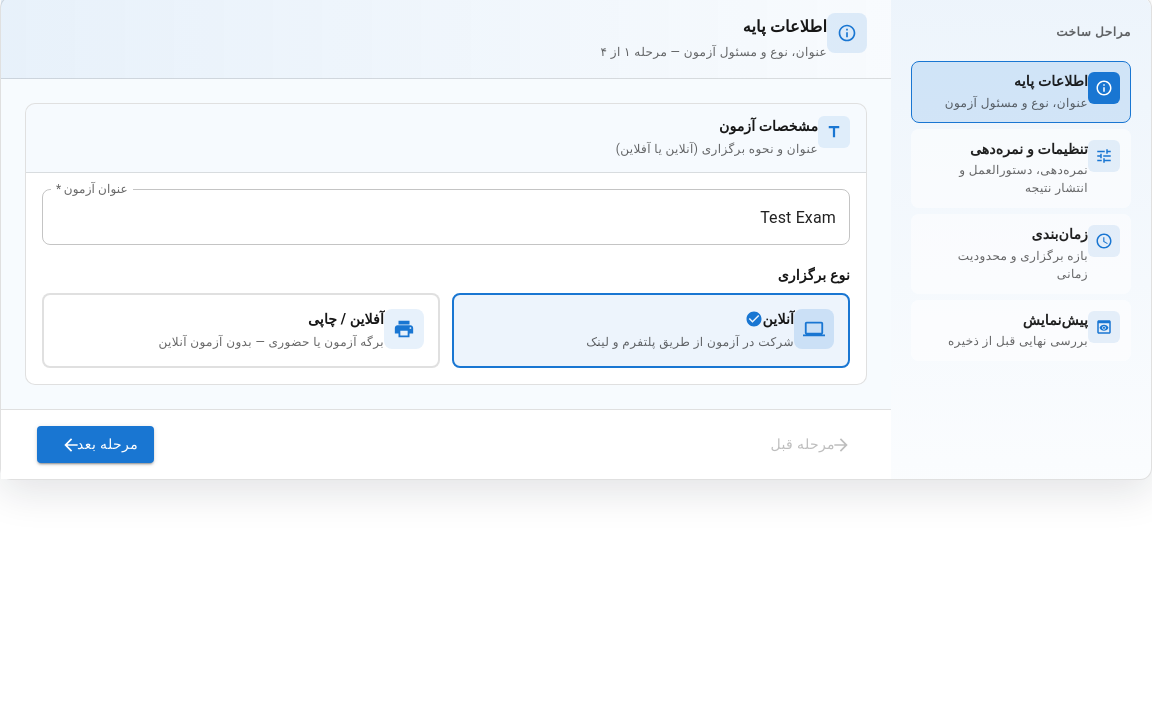
ExamFormWizard › shows save button when existingExam is true on preview step
The width and height of the screenshot is (1152, 716).
Click the button "مرحله بعد" at (96, 445), box 37,426 -> 154,463
(page scrolled)
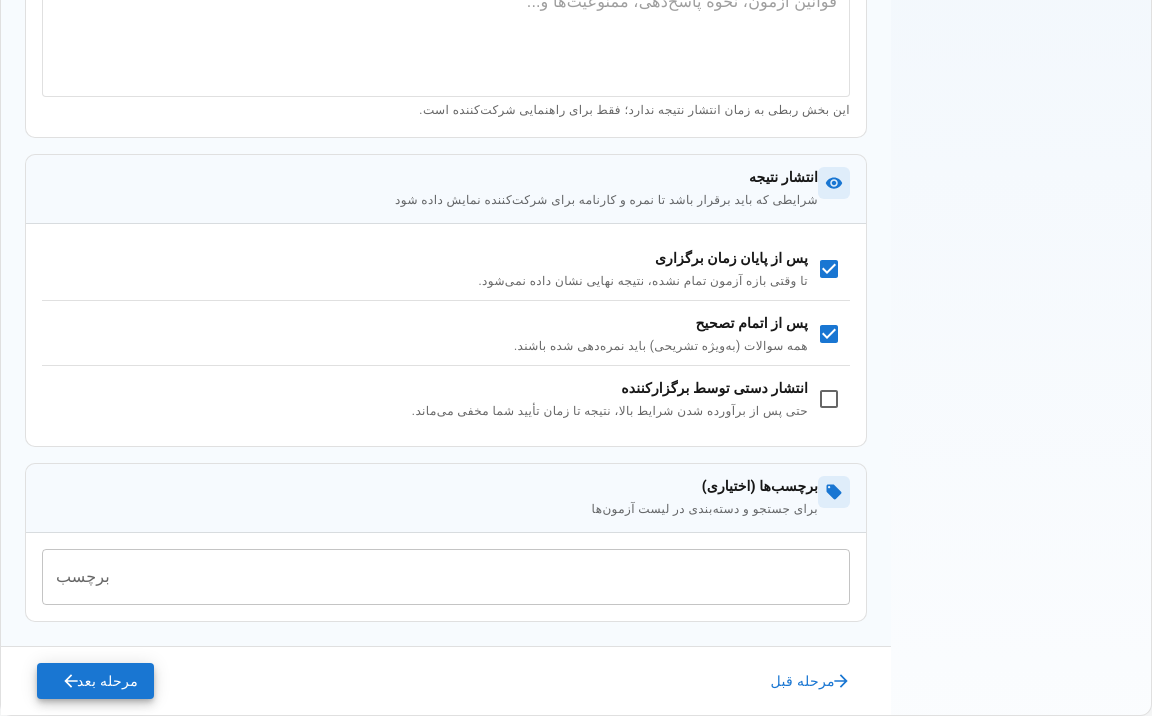
Click the button "مرحله بعد" at (96, 681), box 37,663 -> 154,700
(page scrolled)
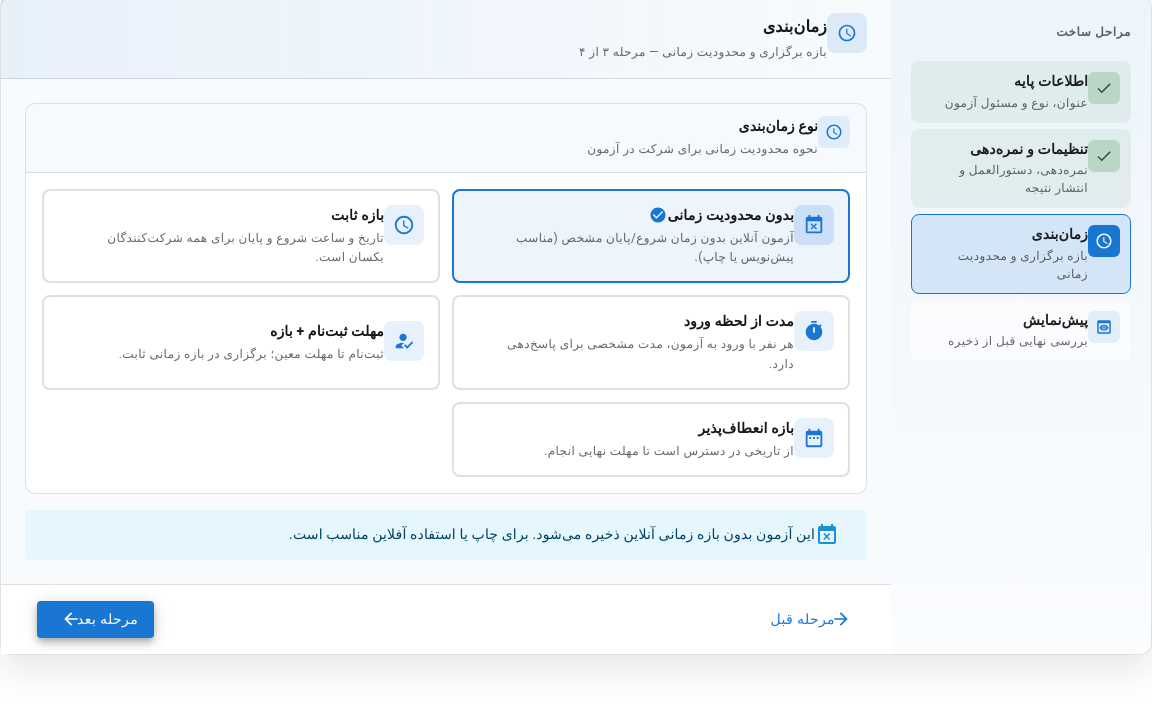
Click the button "مرحله بعد" at (96, 619), box 37,601 -> 154,638
(page scrolled)
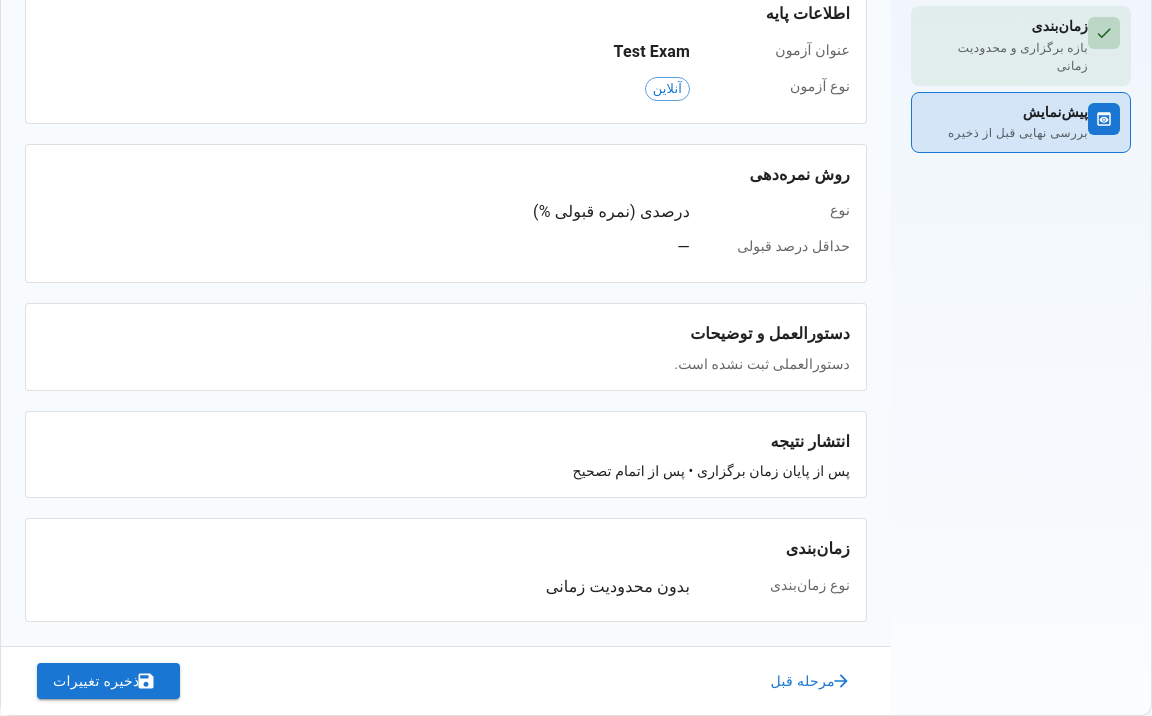
Expected: the button "ذخیره تغییرات" is shown, 37,663 -> 180,700
